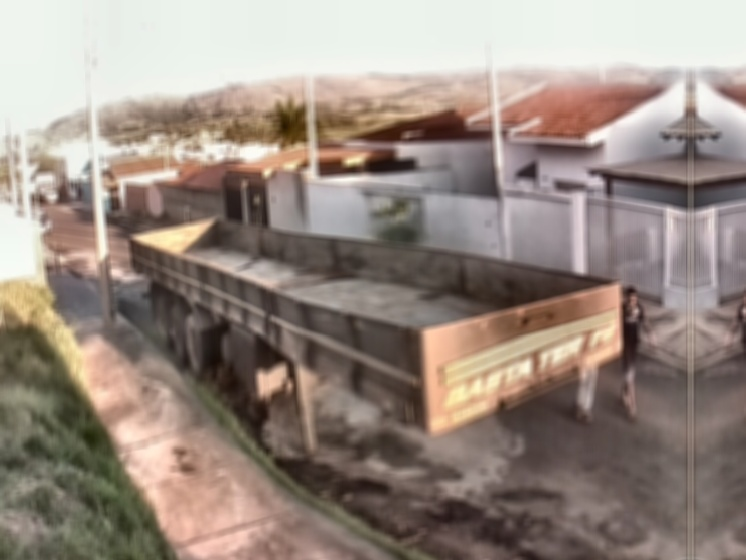person: (619, 286, 746, 418), (575, 362, 597, 424)
